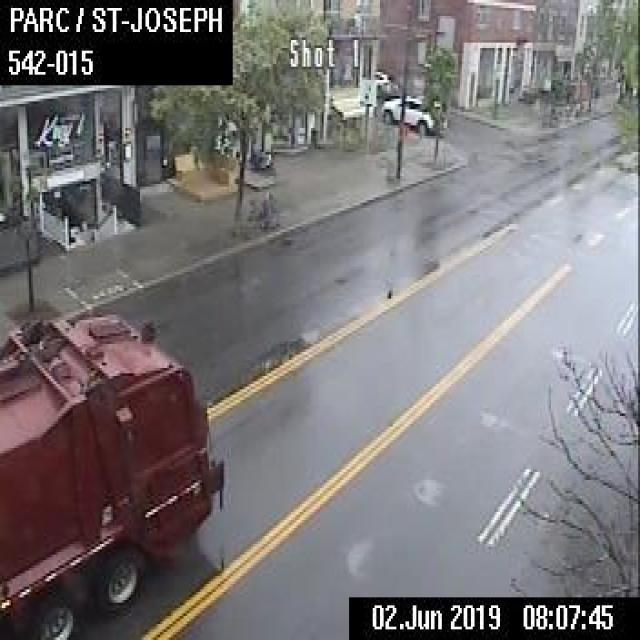vehicle: (0, 302, 224, 638), (380, 93, 446, 131), (374, 67, 396, 96)
